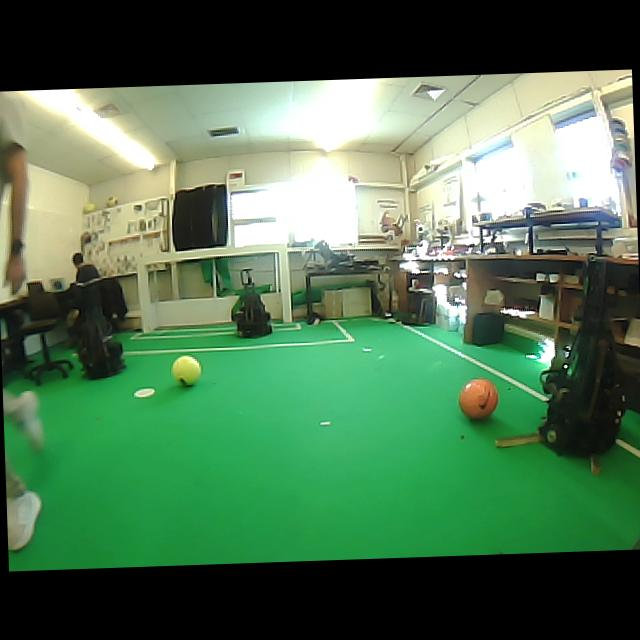ball: (458, 377, 497, 419), (171, 355, 201, 386), (82, 202, 96, 213), (106, 196, 118, 206)
goal: (136, 262, 151, 331), (278, 243, 291, 321)
robot: (539, 256, 625, 454), (78, 304, 125, 378), (234, 268, 270, 337)
